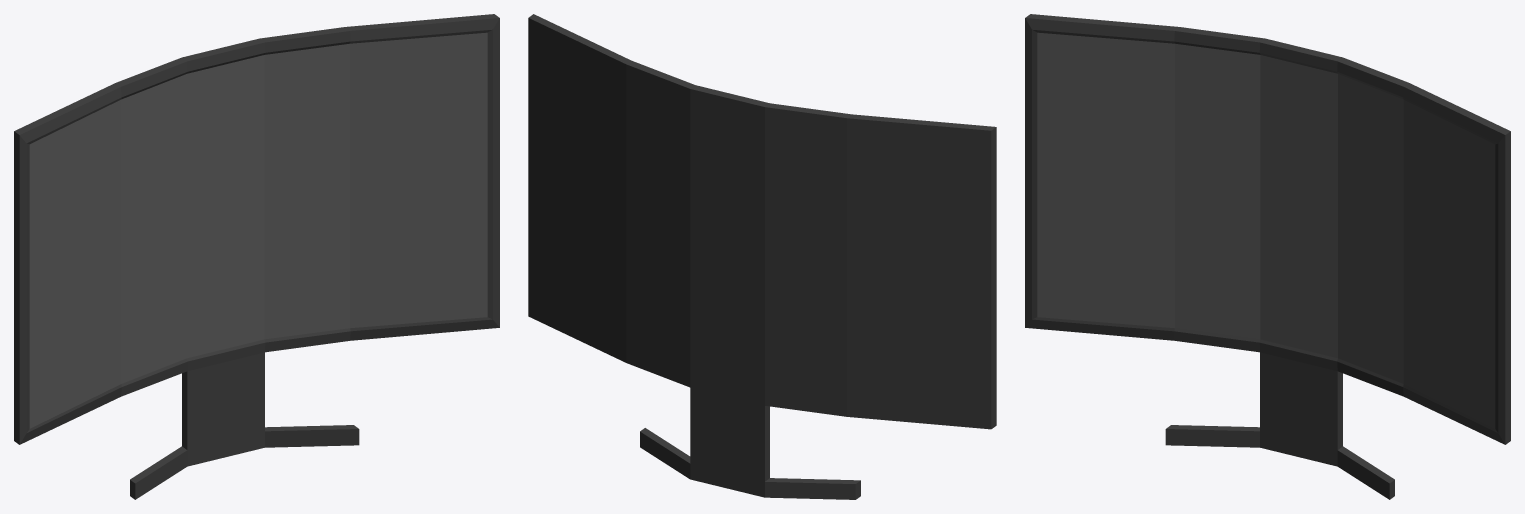
The picture shows the model from 3 angles, left to right: view 1: azimuth 30°, elevation 25°; view 2: azimuth 150°, elevation 25°; view 3: azimuth 330°, elevation 25°; orthographic projection. The views are drawn at different scales.
Parts seen in each view (by area): view 1: TV_4; view 2: TV_4; view 3: TV_4.
Boxes of the visible parts, x1,y1,x2,y2 form: TV_4: [14, 14, 499, 499]; TV_4: [528, 14, 996, 499]; TV_4: [1025, 14, 1510, 499].
Bounding box in the file's own units: 89.67 × 12.62 × 72.28.
